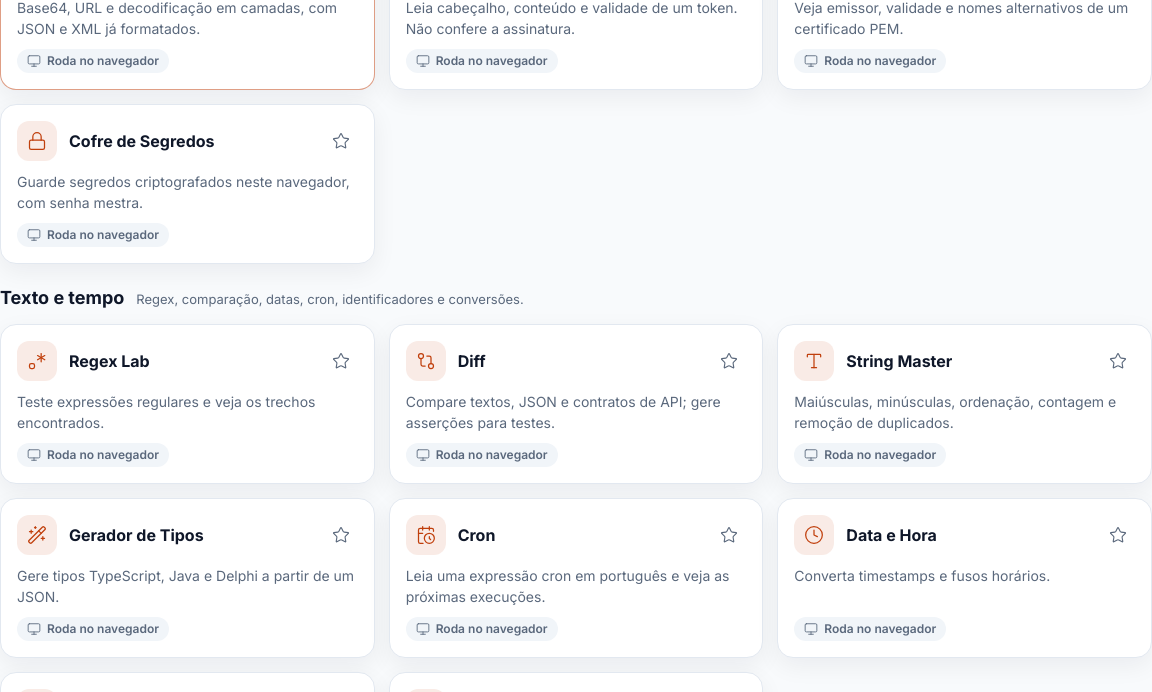
Scenario: hub do DevTools › com o localStorage falhando a estrela ainda funciona nesta visita
(page scrolled)
Click the button named "Favoritar: Diff" at coordinates (729, 360), box [712,344,746,378]
(page scrolled)
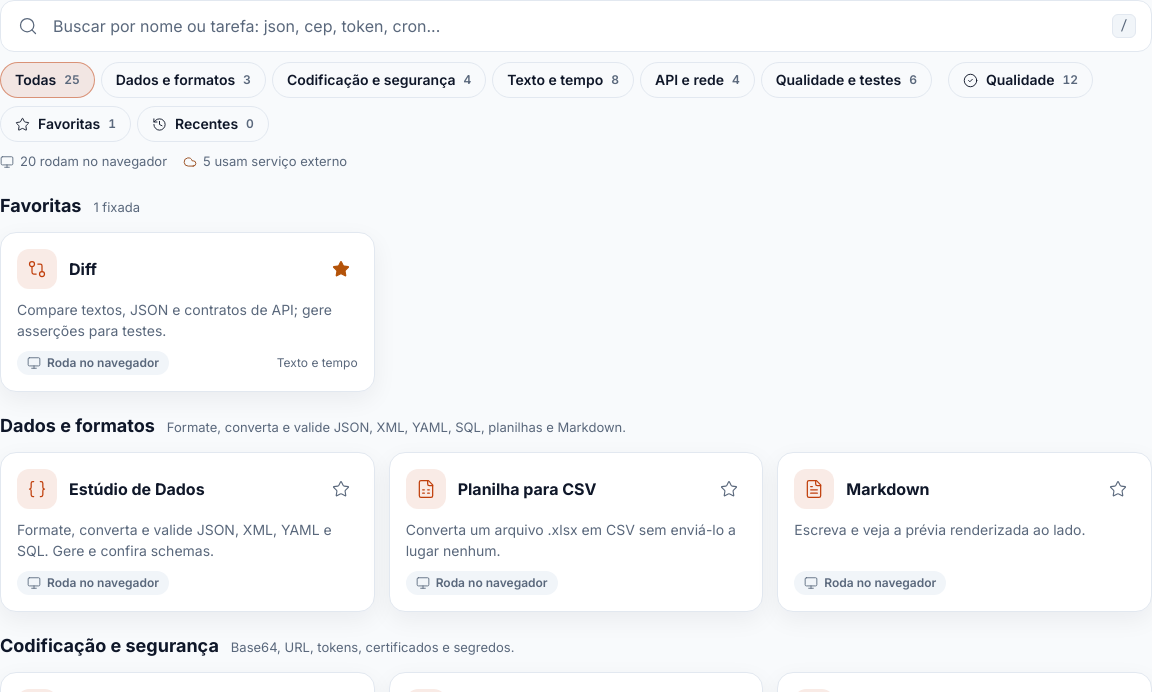
Expected: the element "Favoritas" is shown, [0,194,375,392]
